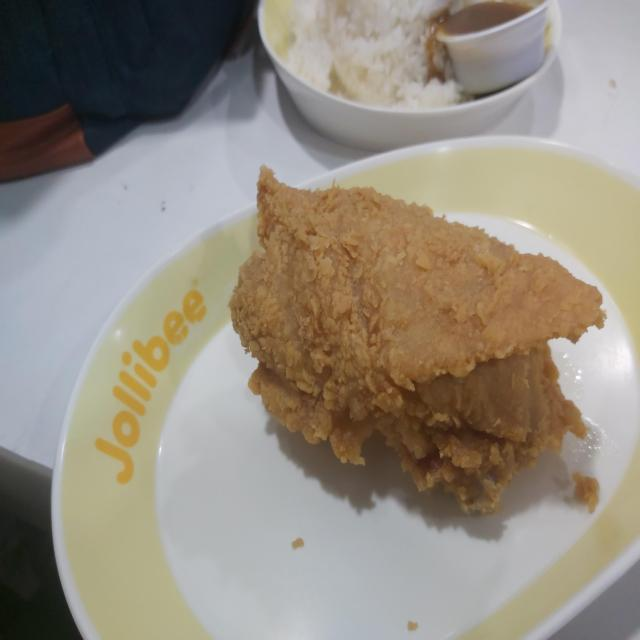Chicken -Fried Chicken-: (230, 160, 585, 534)
